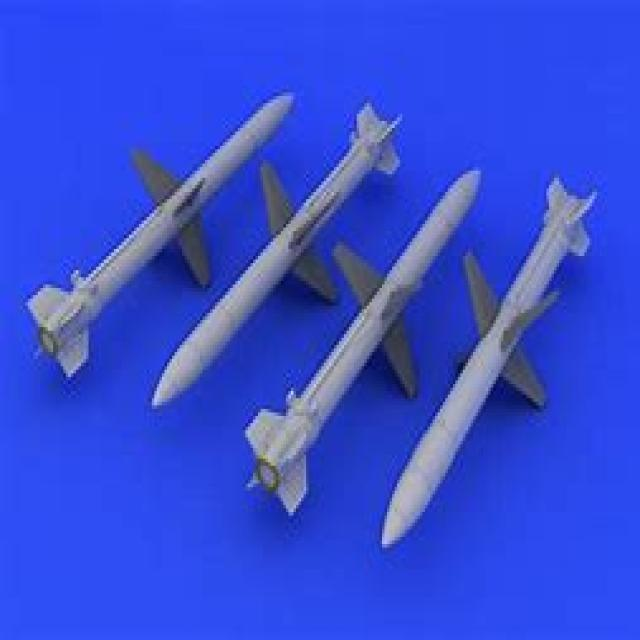missile: (246, 163, 492, 506), (148, 102, 408, 420), (382, 178, 600, 555), (23, 87, 299, 375)
